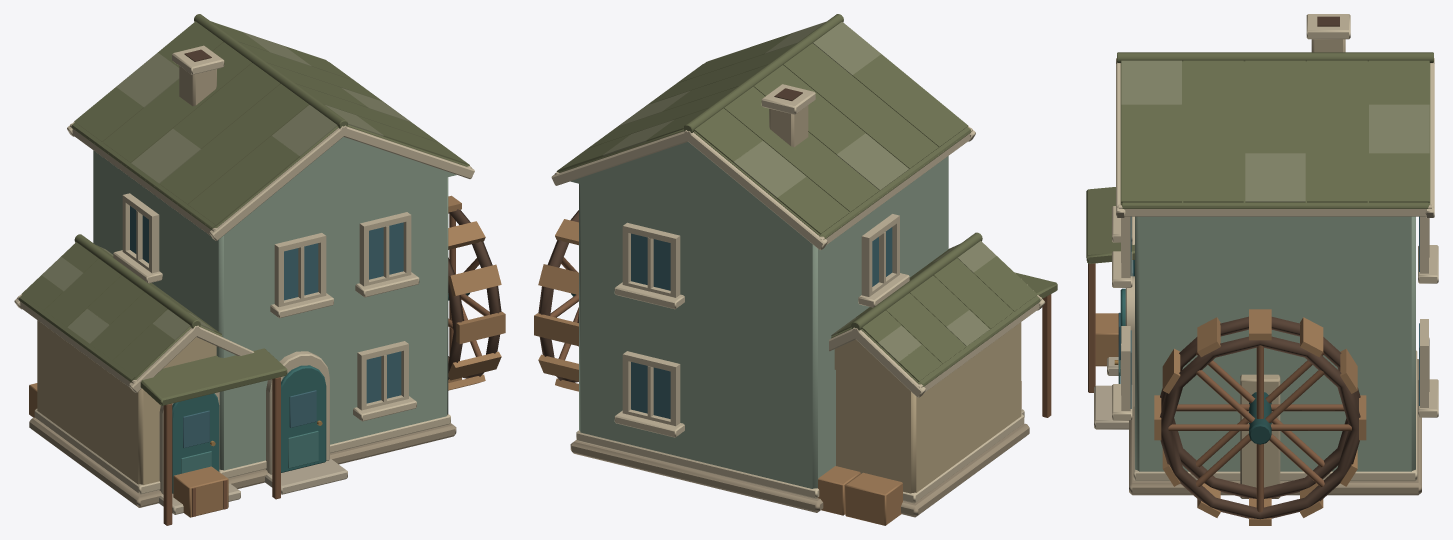
Rendered from watermill_level_3.glb.
3 views of the same model, side by side, from view 1: azimuth 30°, elevation 25°; view 2: azimuth 150°, elevation 25°; view 3: azimuth 270°, elevation 25° (orthographic). The views are drawn at different scales.
Parts seen in each view (by area): view 1: watermill_level_3_runtime; view 2: watermill_level_3_runtime; view 3: watermill_level_3_runtime.
Boxes of the visible parts, box(x1,y1,x2,y2) form: watermill_level_3_runtime: box(14, 14, 505, 525); watermill_level_3_runtime: box(534, 14, 1057, 525); watermill_level_3_runtime: box(1086, 14, 1438, 525).
Size of the model in its own units: 6.51 by 5.62 by 4.64.
